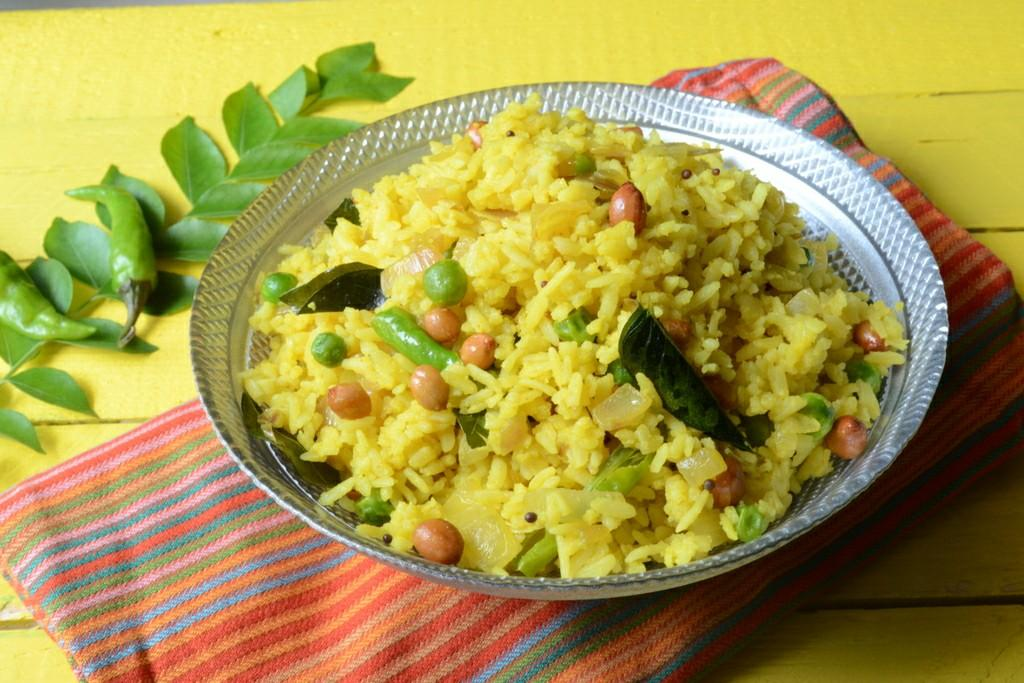Poha: (236, 95, 909, 578)
